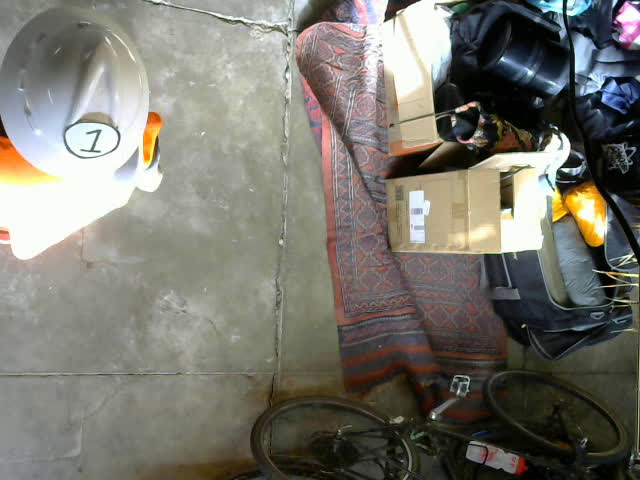one: (63, 121, 119, 158)
